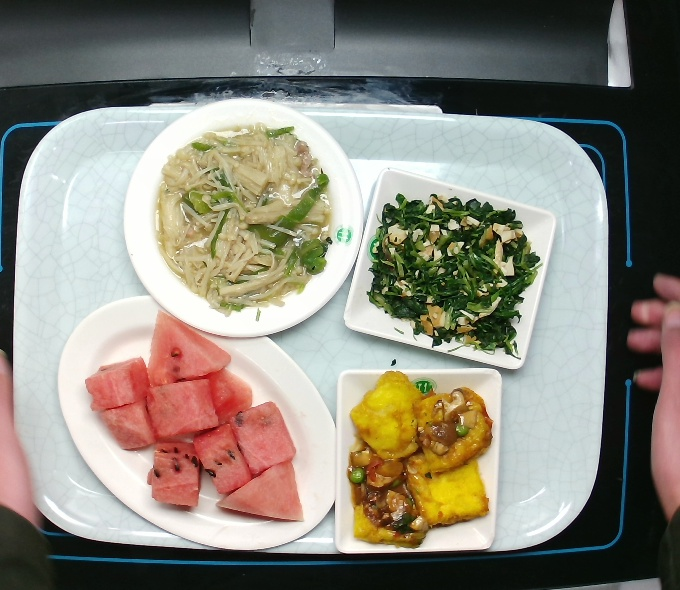wcq-CuiPiDouFu: (340, 368, 502, 552)
wcq-JinZhenGu: (147, 116, 341, 327)
wcq-MaLanTouChaoDouGan: (362, 191, 549, 366)
wcq-XiGua: (78, 306, 315, 532)
